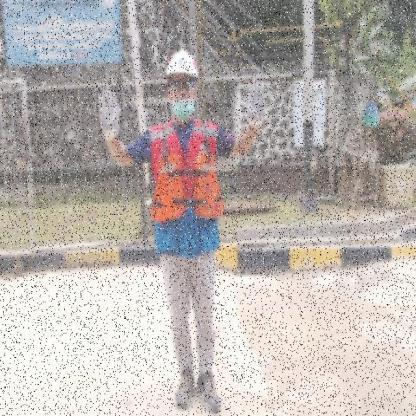boots: (196, 370, 223, 414), (173, 367, 196, 410)
gloves: (242, 78, 267, 130), (97, 89, 121, 140)
goggles: (170, 80, 195, 92)
helmet: (163, 48, 202, 82)
mask: (172, 99, 196, 122)
vest: (150, 152, 224, 222)
